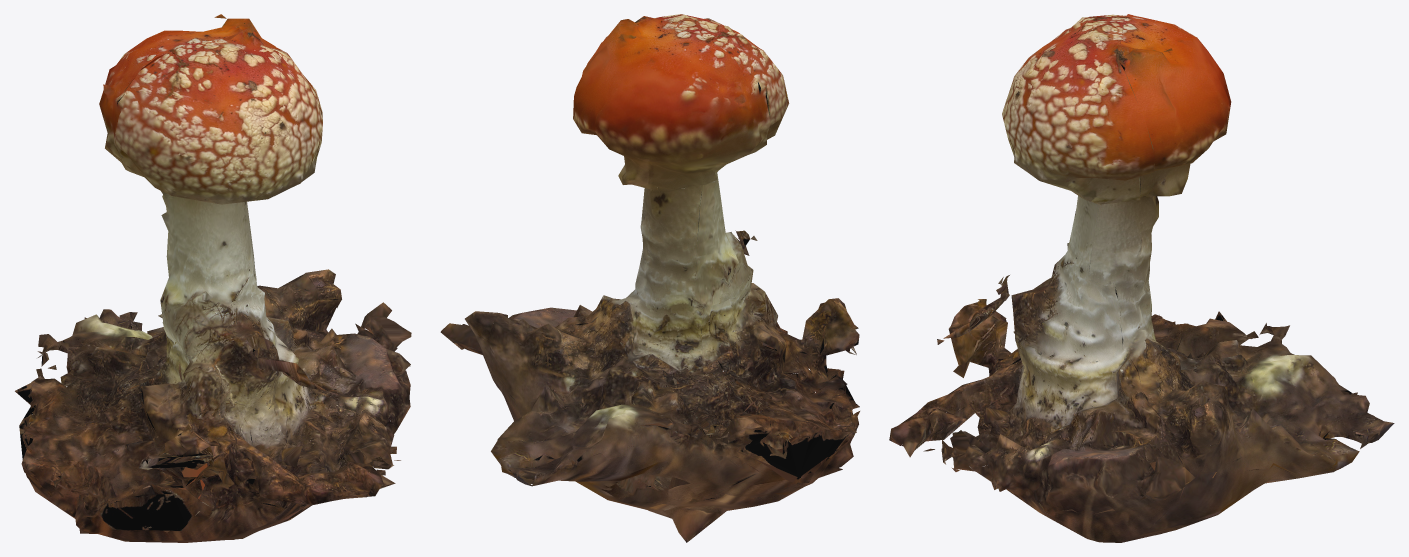
Rendered from mushroom_amanita.glb.
The picture shows the model from 3 angles, left to right: view 1: azimuth 30°, elevation 25°; view 2: azimuth 150°, elevation 25°; view 3: azimuth 270°, elevation 25°; orthographic projection. The views are drawn at different scales.
Parts seen in each view (by area): view 1: Object_4, Object_3; view 2: Object_4, Object_3; view 3: Object_4.
Part boxes in pixels (<box>): Object_4: <box>21,14,411,542</box>; Object_3: <box>15,323,380,532</box>; Object_4: <box>440,14,859,542</box>; Object_3: <box>666,238,858,478</box>; Object_4: <box>889,14,1394,542</box>.
Bounding box in the file's own units: 0.9379 × 1.13 × 1.01.
1 material, 1 textured.
